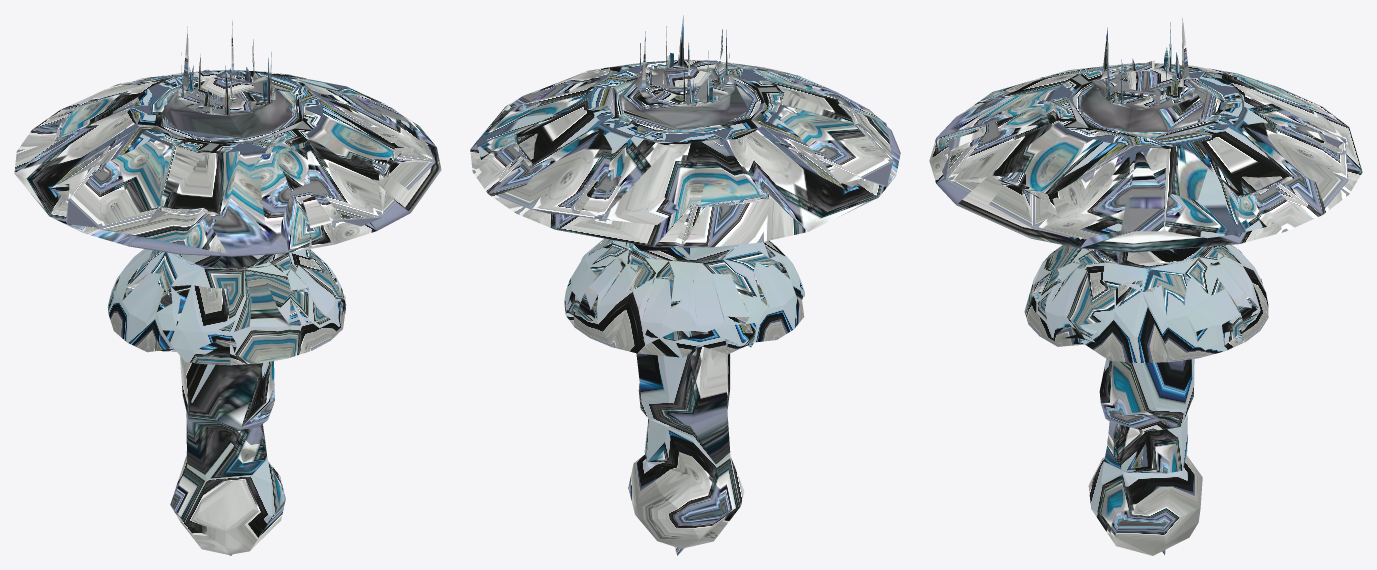
3 views of the same model, side by side, from view 1: azimuth 30°, elevation 25°; view 2: azimuth 150°, elevation 25°; view 3: azimuth 270°, elevation 25° (orthographic).
Visible parts, largest first — view 1: Object_3; view 2: Object_3; view 3: Object_3.
Part boxes in pixels (box(x1,y1,x2,y2)): Object_3: box(14, 20, 441, 555); Object_3: box(470, 15, 900, 555); Object_3: box(929, 17, 1362, 555).
Bounding box in the file's own units: 5.93 × 8.01 × 5.91.
1 material, 1 textured.
